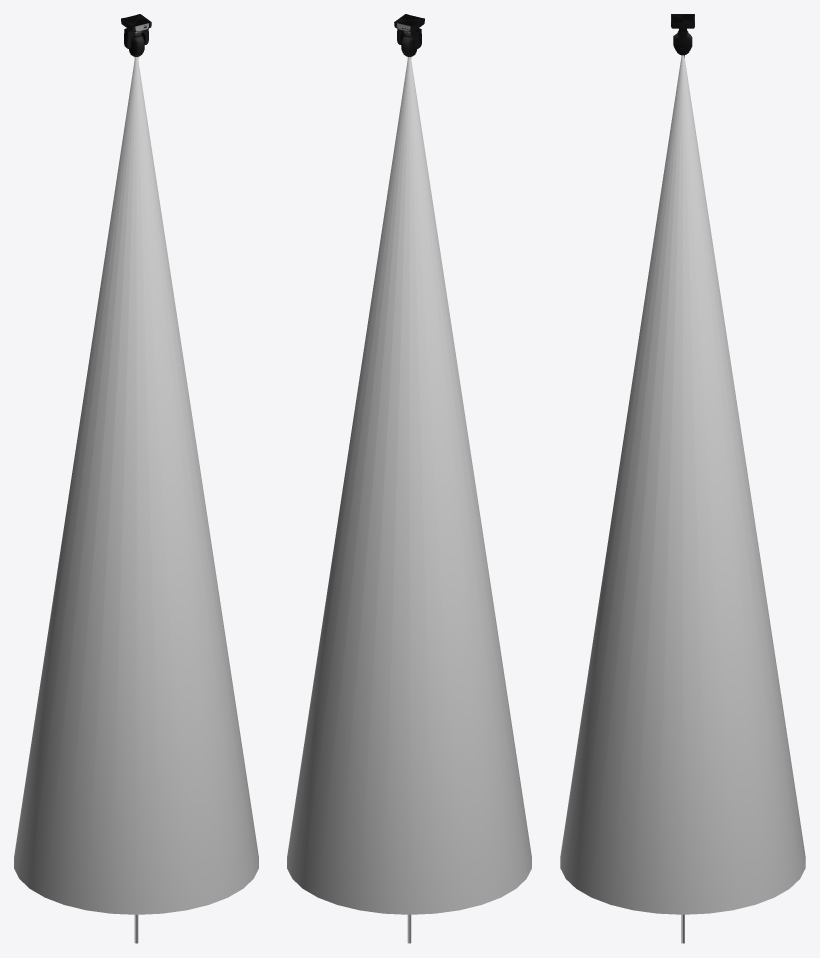
The model's file is Spot.FBX.
The picture shows the model from 3 angles, left to right: view 1: azimuth 30°, elevation 25°; view 2: azimuth 150°, elevation 25°; view 3: azimuth 270°, elevation 25°; orthographic projection.
Visible parts, largest first — view 1: volume; view 2: volume; view 3: volume.
Part boxes in pixels (x1=…): volume: x1=14, y1=57, x2=258, y2=914; volume: x1=287, y1=57, x2=531, y2=914; volume: x1=560, y1=55, x2=805, y2=914.
Bounding box in the file's own units: 3.03 × 3.02 × 12.54.
